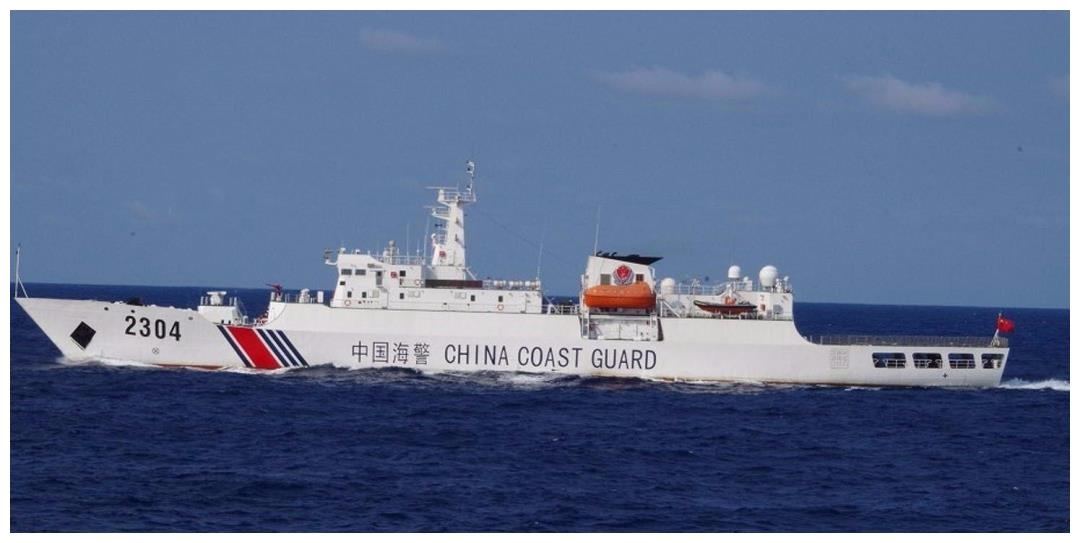warship: (10, 175, 1022, 389)
